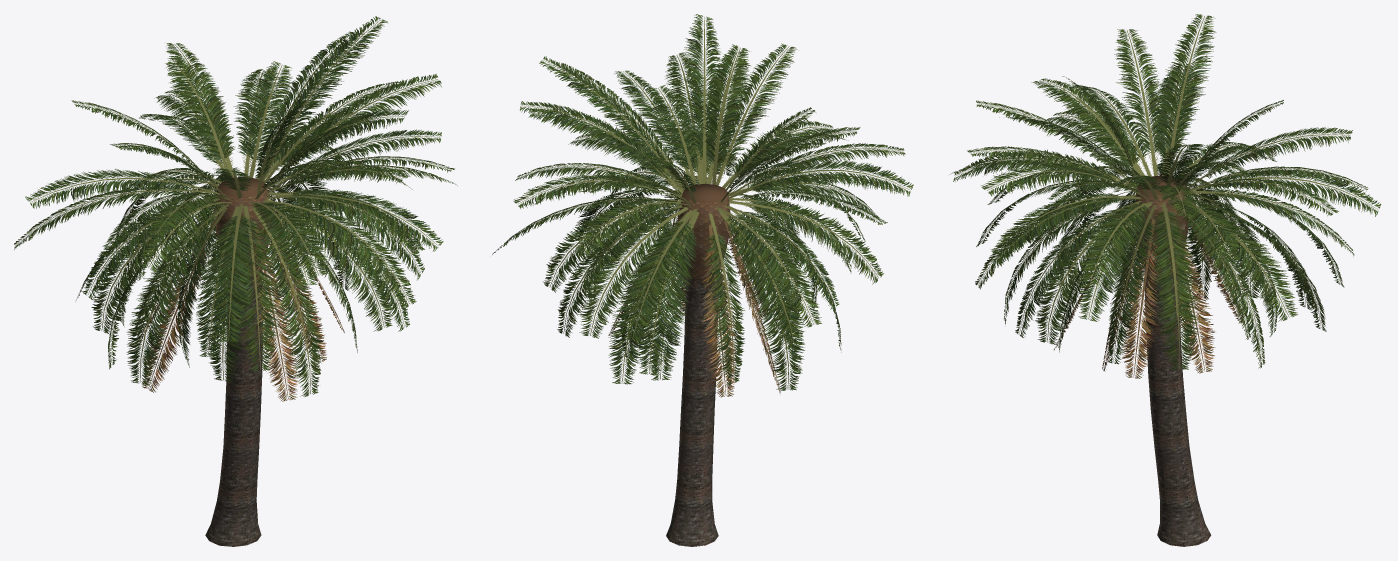
File: SM_Morin_PalmaA_LOD1.fbx
3 views of the same model, side by side, from view 1: azimuth 30°, elevation 25°; view 2: azimuth 150°, elevation 25°; view 3: azimuth 270°, elevation 25° (orthographic). The views are drawn at different scales.
Parts seen in each view (by area): view 1: SM_Morin_PalmaA_LOD1; view 2: SM_Morin_PalmaA_LOD1; view 3: SM_Morin_PalmaA_LOD1.
Part boxes in pixels (<box>): SM_Morin_PalmaA_LOD1: <box>14,16,457,546</box>; SM_Morin_PalmaA_LOD1: <box>492,14,913,546</box>; SM_Morin_PalmaA_LOD1: <box>950,14,1381,546</box>.
Size of the model in its own units: 999 by 1015 by 1188.
2 materials, 2 textured.
